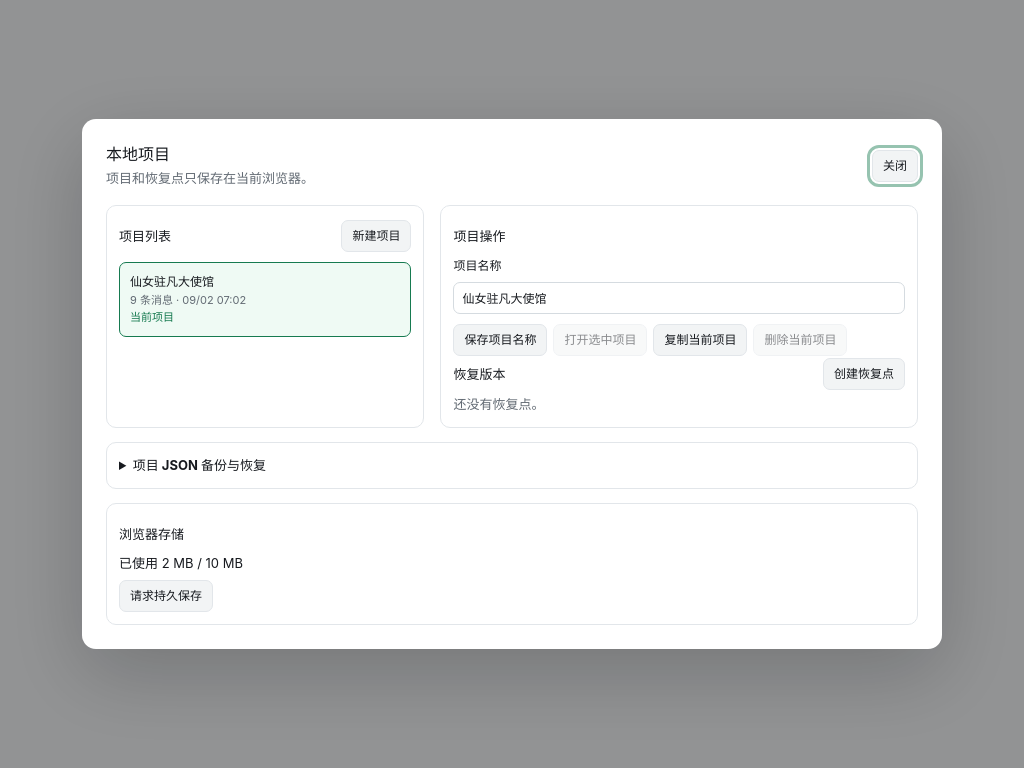
Scenario: ProjectManagerDialog › shows quota information and keeps persistence behind a user action
Check: the text "已使用 2 MB / 10 MB" is shown, box [119,555,243,571]
Click the button "请求持久保存" at (166, 596), box [119,580,213,612]
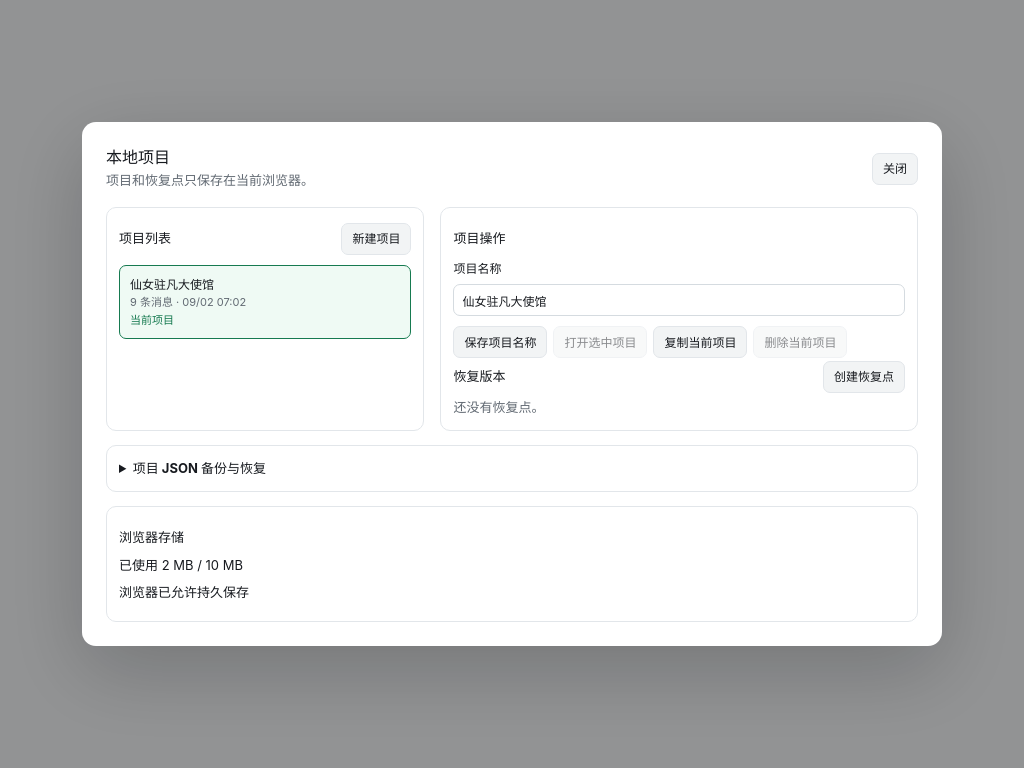
Check: the text "浏览器已允许持久保存" is shown, box [119,584,249,600]
